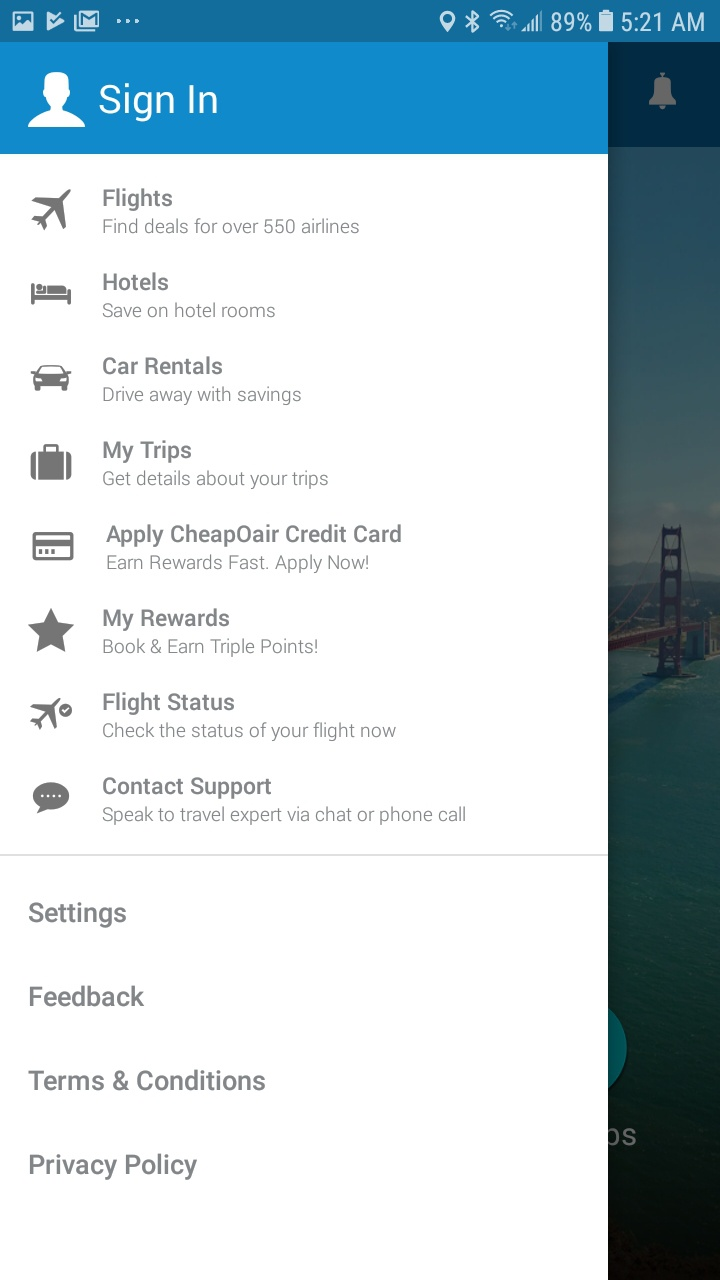Drawer: (1, 43, 608, 1280)
Icon: (28, 72, 87, 128), (28, 608, 76, 653), (31, 444, 73, 481), (33, 532, 75, 562), (33, 782, 71, 814)
Image: (32, 189, 73, 232), (30, 698, 74, 731), (31, 365, 73, 392), (31, 283, 73, 306)
Text: (103, 806, 466, 826), (106, 524, 402, 548), (103, 722, 397, 742), (28, 1069, 266, 1092), (108, 554, 369, 574), (99, 83, 219, 123), (30, 1153, 198, 1181), (103, 470, 329, 490), (103, 218, 360, 235), (104, 638, 318, 658), (103, 386, 302, 406), (103, 777, 272, 800), (103, 692, 235, 716), (104, 608, 230, 632), (103, 302, 276, 319), (29, 901, 127, 929), (30, 985, 145, 1008), (103, 356, 223, 376), (103, 440, 192, 464), (104, 188, 173, 212), (104, 272, 169, 292)
UpperTaskBar: (1, 1, 720, 43)
